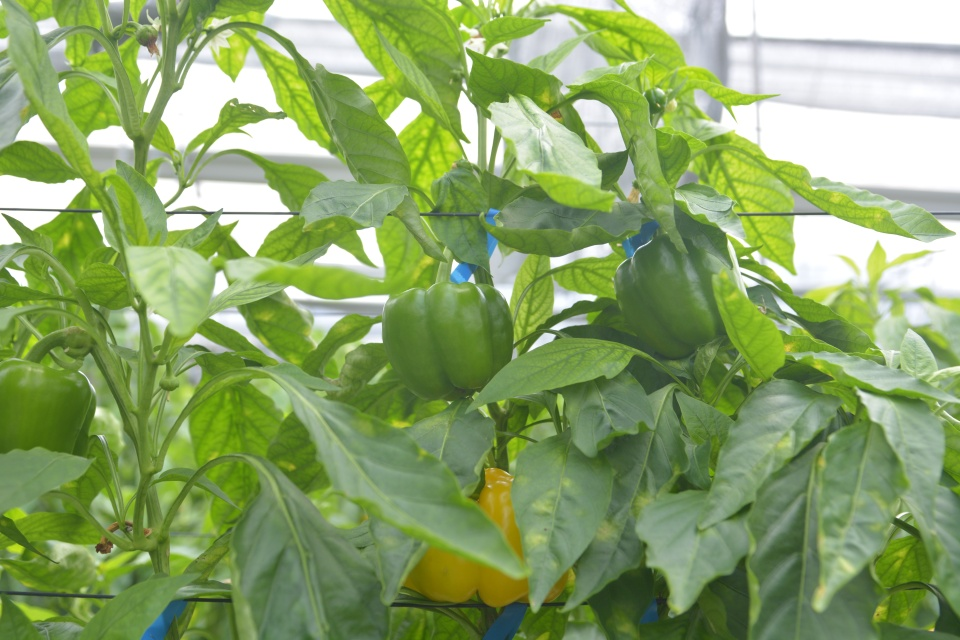fruit: (401, 464, 571, 611), (378, 278, 516, 405), (611, 231, 736, 360), (0, 353, 99, 482)
